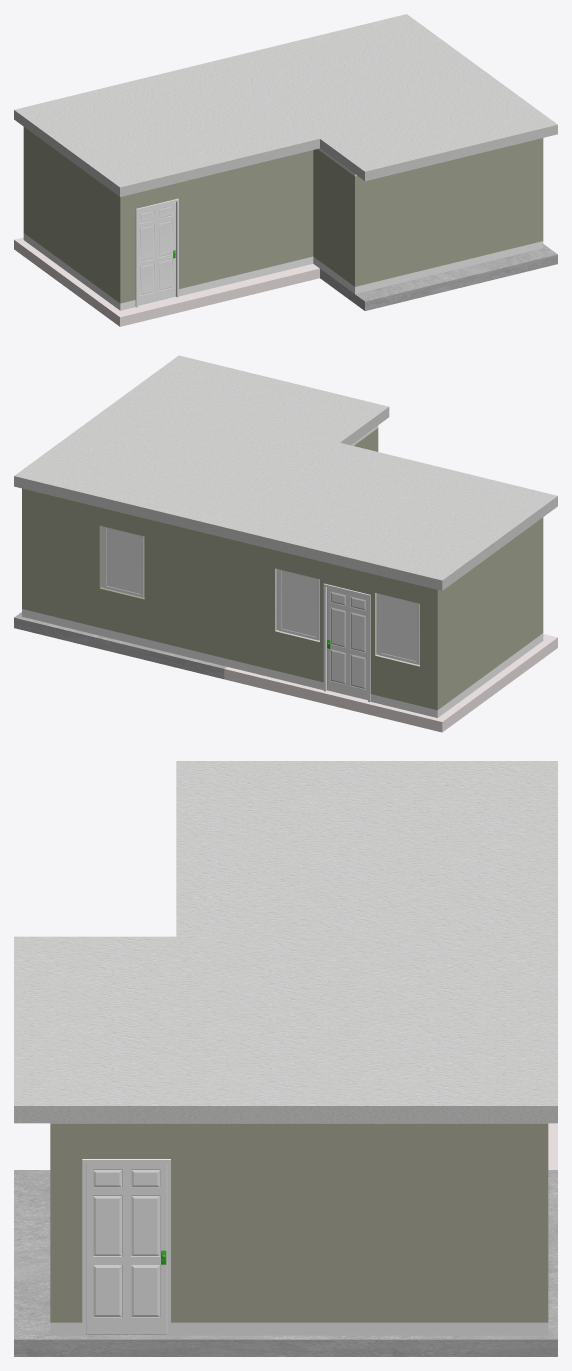
Rendered from FloorPlan223_physics.fbx.
The picture shows the model from 3 angles, top to bottom: view 1: azimuth 30°, elevation 25°; view 2: azimuth 150°, elevation 25°; view 3: azimuth 270°, elevation 25°; orthographic projection. The views are drawn at different scales.
Visible parts, largest first — view 1: FP223:StandardWallSize, FP223:Ceiling, FP223:Floor, FP223:StandardDoor1, FP223:StandardDoorFrame1; view 2: FP223:Ceiling, FP223:StandardWallSize, FP223:Floor, FP223:StandardDoor1, FP223:polySurface1, FP223:polySurface2, FP223:polySurface3, FP223:StandardWindow1 (×3), FP223:StandardDoorFrame1; view 3: FP223:Ceiling, FP223:StandardWallSize, FP223:Floor, FP223:StandardDoor1, FP223:StandardDoorFrame1.
Boxes of the visible parts, x1,y1,x2,y2 form: FP223:StandardWallSize: (23, 127, 543, 310); FP223:Ceiling: (14, 14, 557, 196); FP223:Floor: (14, 237, 557, 326); FP223:StandardDoor1: (138, 202, 175, 305); FP223:StandardDoorFrame1: (135, 198, 178, 307); FP223:Ceiling: (14, 355, 557, 590); FP223:StandardWallSize: (22, 425, 543, 717); FP223:Floor: (14, 612, 557, 732); FP223:StandardDoor1: (327, 587, 367, 700); FP223:polySurface1: (276, 569, 319, 640); FP223:polySurface2: (376, 593, 419, 664); FP223:polySurface3: (101, 526, 144, 597); FP223:StandardWindow1 (×3): (103, 526, 419, 664); FP223:StandardDoorFrame1: (323, 583, 370, 702); FP223:Ceiling: (14, 761, 557, 1123); FP223:StandardWallSize: (50, 1123, 548, 1335); FP223:Floor: (14, 1123, 557, 1356); FP223:StandardDoor1: (86, 1163, 167, 1334); FP223:StandardDoorFrame1: (82, 1159, 170, 1336).
Bounding box in the file's own units: 855 × 290 × 570.
